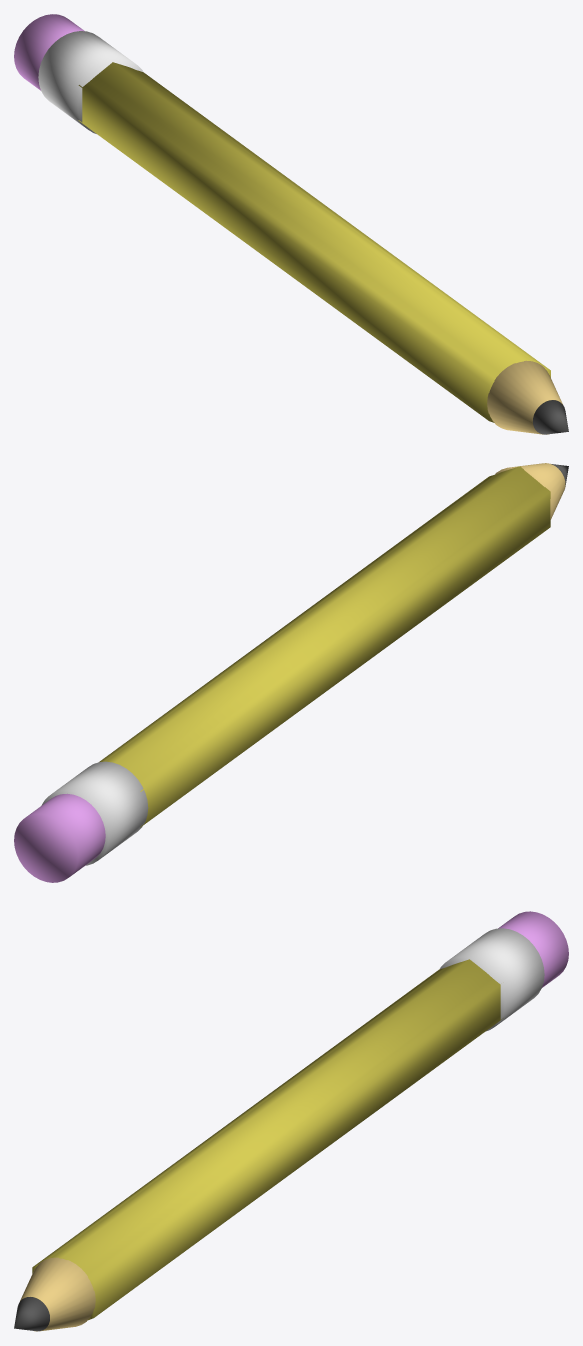
File: pencil.fbx
3 views of the same model, one above another, from view 1: azimuth 30°, elevation 25°; view 2: azimuth 150°, elevation 25°; view 3: azimuth 330°, elevation 25° (orthographic).
Visible parts, largest first — view 1: Plane, Cylinder, Cone, Cylinder_001, Cone_001; view 2: Plane, Cylinder_001, Cylinder, Cone; view 3: Plane, Cylinder, Cone, Cylinder_001, Cone_001.
Boxes of the visible parts, x1,y1,x2,y2 form: Plane: (78,62,550,422); Cylinder: (38,31,143,133); Cone: (487,360,562,434); Cylinder_001: (14,14,84,90); Cone_001: (533,400,568,434); Plane: (99,466,550,827); Cylinder_001: (14,793,105,882); Cylinder: (41,761,148,865); Cone: (495,463,565,519); Plane: (32,959,503,1320); Cylinder: (440,928,544,1031); Cone: (20,1257,95,1331); Cylinder_001: (498,911,568,987); Cone_001: (14,1297,49,1331).
Bounding box in the file's own units: 2.06 × 2.06 × 26.48.
